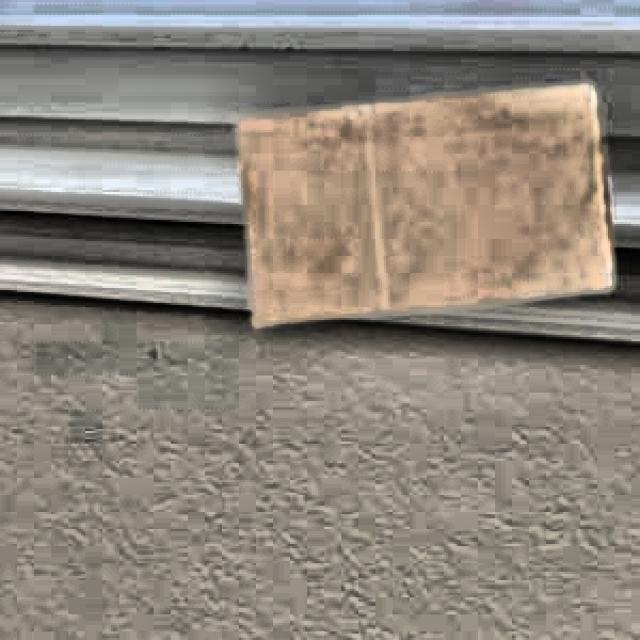Paper-bag: (225, 72, 626, 339)
